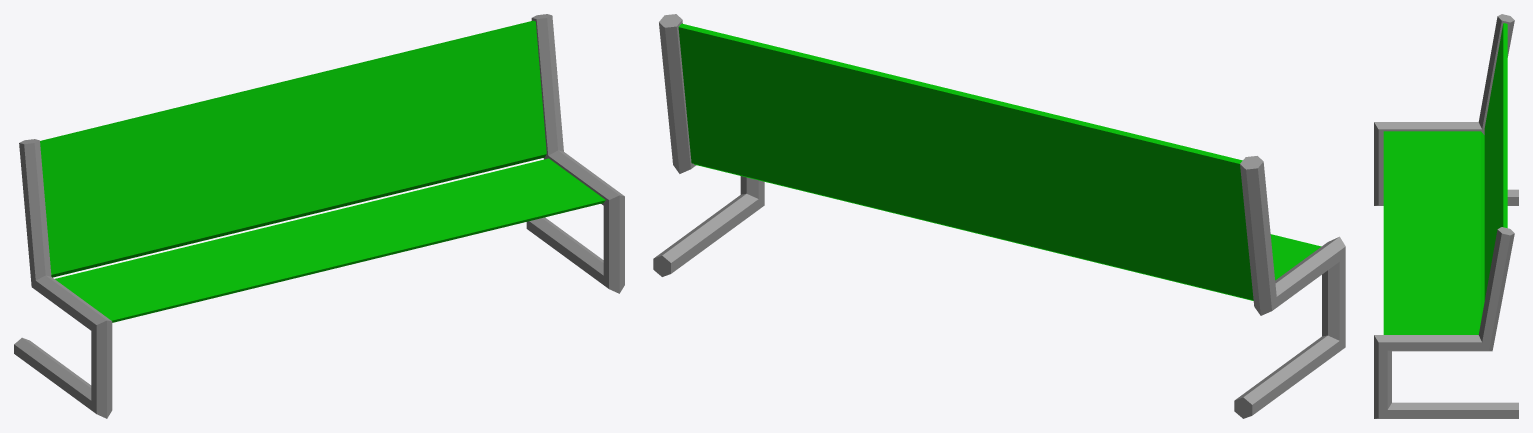
Rendered from SM_Bench_01_05.FBX.
The picture shows the model from 3 angles, left to right: view 1: azimuth 30°, elevation 25°; view 2: azimuth 150°, elevation 25°; view 3: azimuth 270°, elevation 25°; orthographic projection. The views are drawn at different scales.
Visible parts, largest first — view 1: SM_Bench_01_05; view 2: SM_Bench_01_05; view 3: SM_Bench_01_05.
Boxes of the visible parts, left/top/right/bottom form: SM_Bench_01_05: left=14, top=14, right=624, bottom=418; SM_Bench_01_05: left=653, top=14, right=1345, bottom=418; SM_Bench_01_05: left=1374, top=14, right=1518, bottom=418.
Bounding box in the file's own units: 1.7 × 0.6865 × 0.4749.
Materials: 1 (1 with a texture image).
